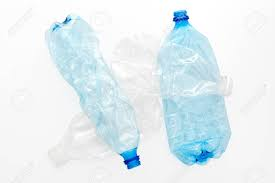bottle: (45, 13, 149, 169), (158, 11, 232, 167)
plastic: (43, 10, 234, 169)
